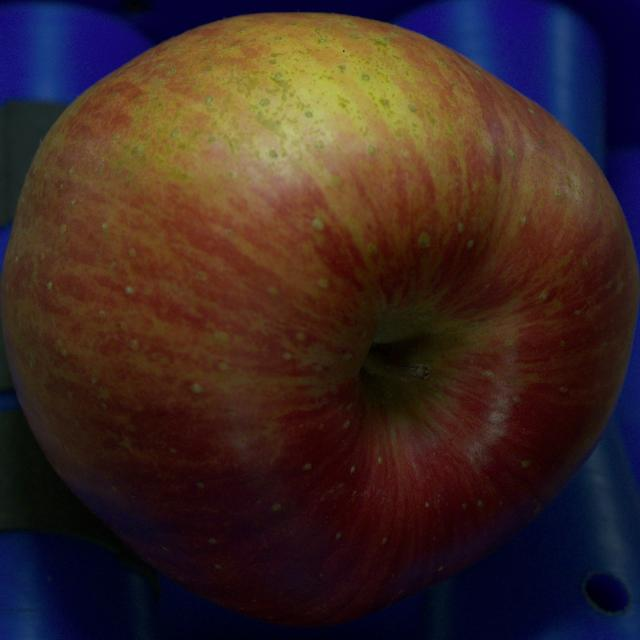apple: (0, 14, 639, 626)
